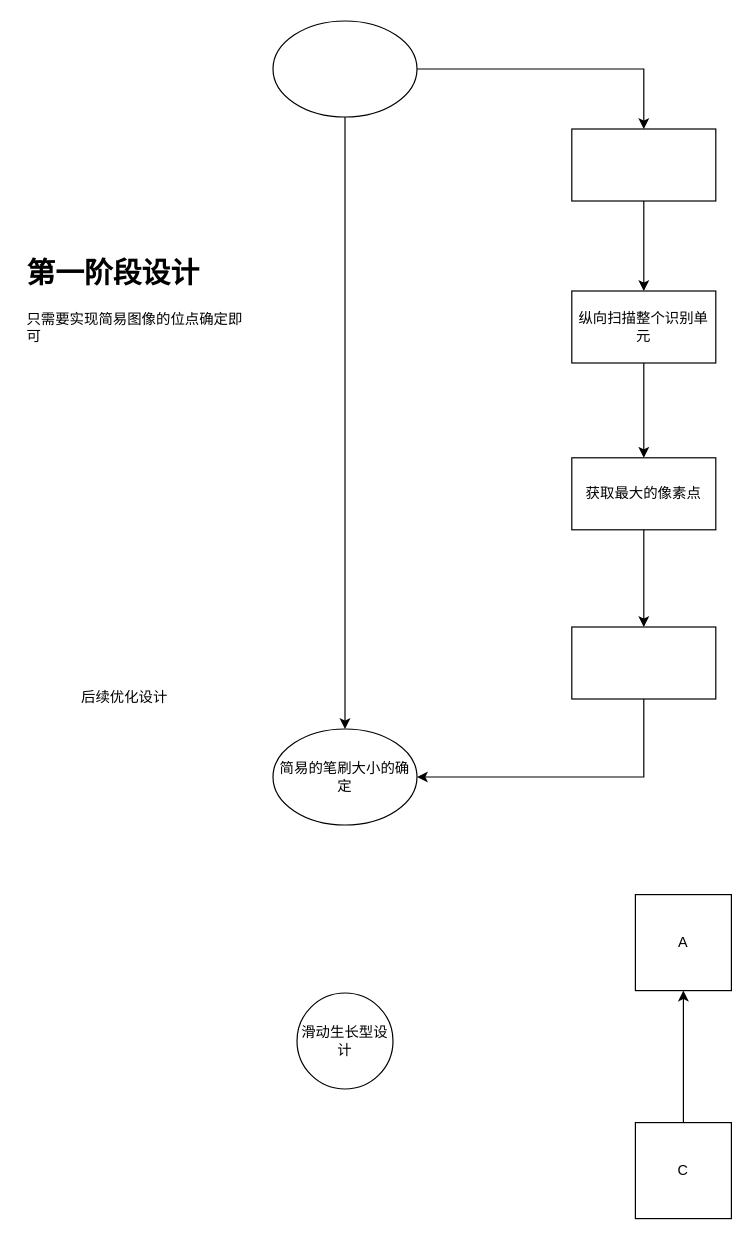
This 752x1240 diagram has some shape labels left out. The shapes that lost their labels are listed below. From the top down, each one's centre as x and y in pixels, then its label:
At [344,68]: "起点识别".
At [643,164]: "设置最小识别精度".
At [643,662]: "一旦减小，即设置为当前笔刷大小".
